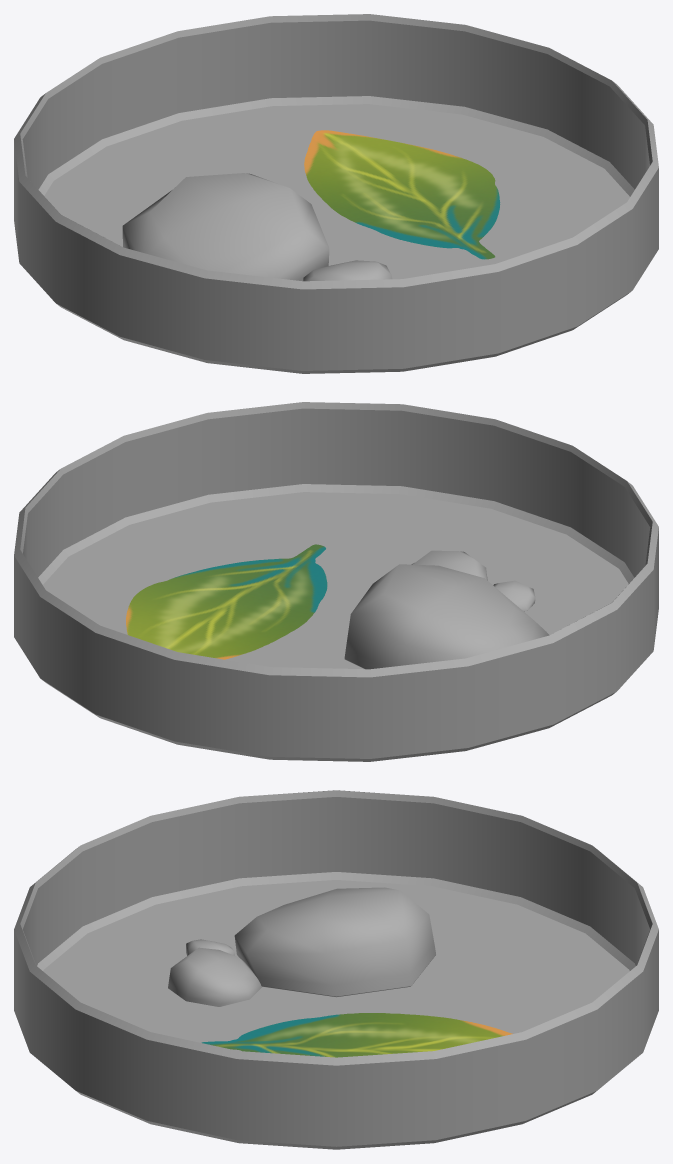
The model's file is HalfDish1.fbx.
3 views of the same model, one above another, from view 1: azimuth 30°, elevation 25°; view 2: azimuth 150°, elevation 25°; view 3: azimuth 270°, elevation 25° (orthographic).
Visible parts, largest first — view 1: HalfDish1, Dirt, Leaf; view 2: HalfDish1, Dirt, Leaf; view 3: HalfDish1, Dirt, Leaf.
Boxes of the visible parts, box(x1,y1,x2,y2) form: HalfDish1: box(14, 14, 658, 373); Dirt: box(122, 173, 392, 281); Leaf: box(304, 130, 500, 259); HalfDish1: box(14, 402, 658, 761); Dirt: box(344, 550, 549, 669); Leaf: box(126, 544, 327, 659); HalfDish1: box(14, 790, 658, 1149); Dirt: box(168, 887, 435, 1006); Leaf: box(201, 1013, 512, 1057).
Size of the model in its own units: 6.77 by 1.07 by 6.77.
